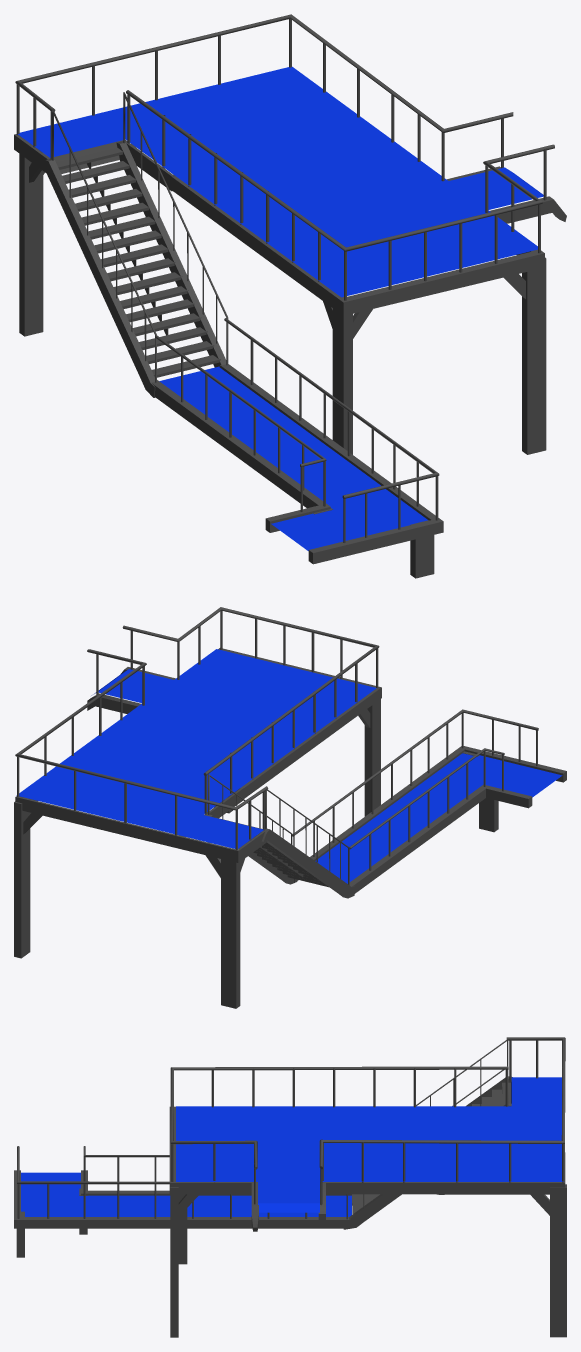
Rendered from Stairs_platform_v5.FBX.
3 views of the same model, one above another, from view 1: azimuth 30°, elevation 25°; view 2: azimuth 150°, elevation 25°; view 3: azimuth 270°, elevation 25° (orthographic). The views are drawn at different scales.
Parts seen in each view (by area): view 1: Stairs_platform; view 2: Stairs_platform; view 3: Stairs_platform.
Boxes of the visible parts, x1,y1,x2,y2 form: Stairs_platform: [14, 14, 566, 578]; Stairs_platform: [14, 607, 566, 1008]; Stairs_platform: [14, 1037, 566, 1337].
Bounding box in the file's own units: 344 × 203 × 519.
